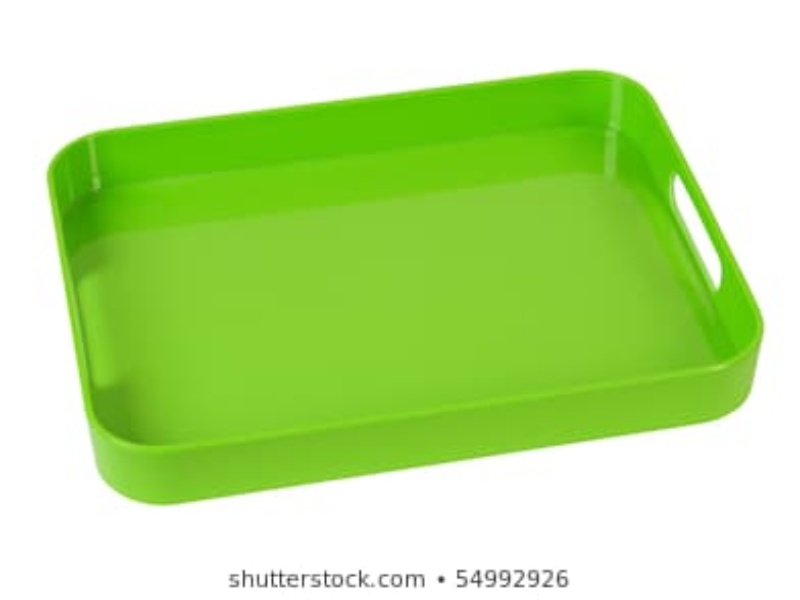plastic-tray: (46, 67, 767, 505)
